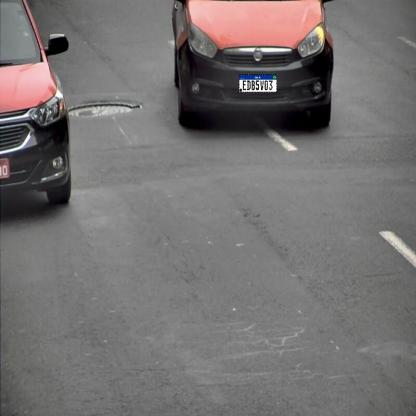PlacaM: (239, 74, 277, 93)
